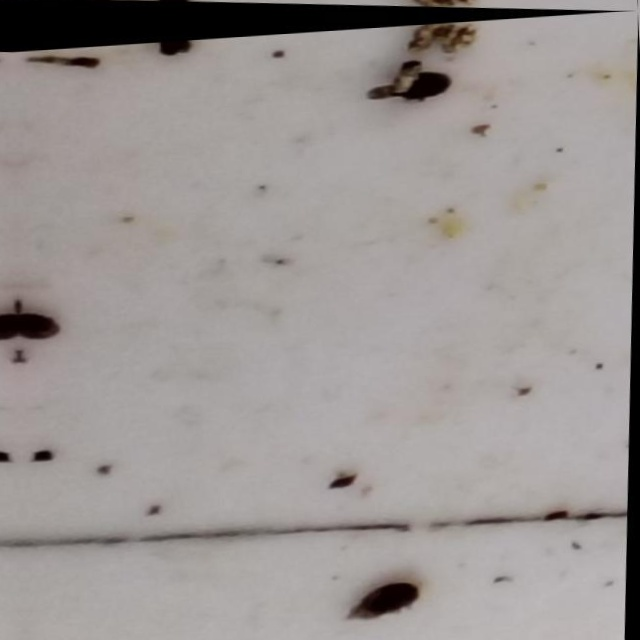varroa: (358, 577, 422, 617), (398, 68, 452, 102), (18, 305, 67, 336), (18, 286, 26, 315)
